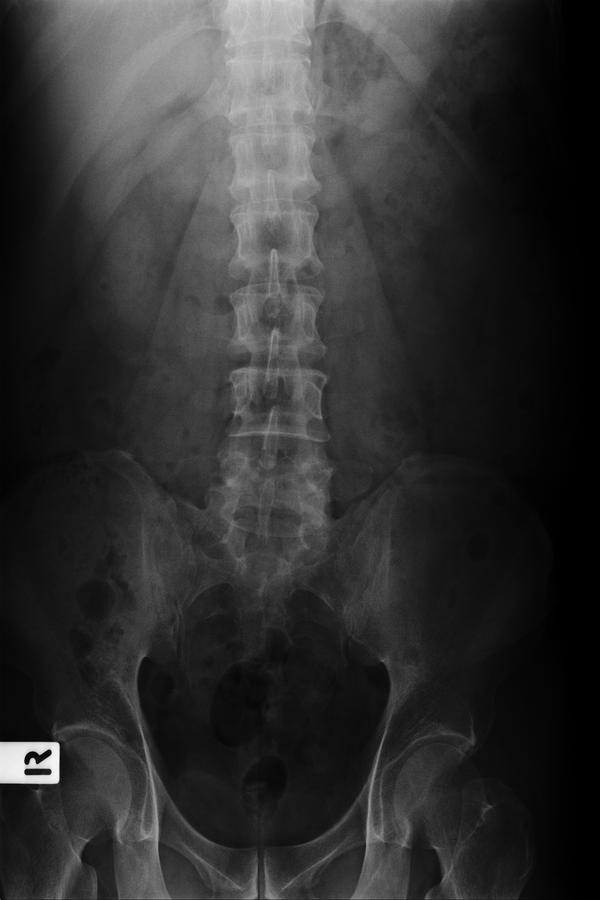not lumbar scoliosis: (221, 127, 336, 581)
